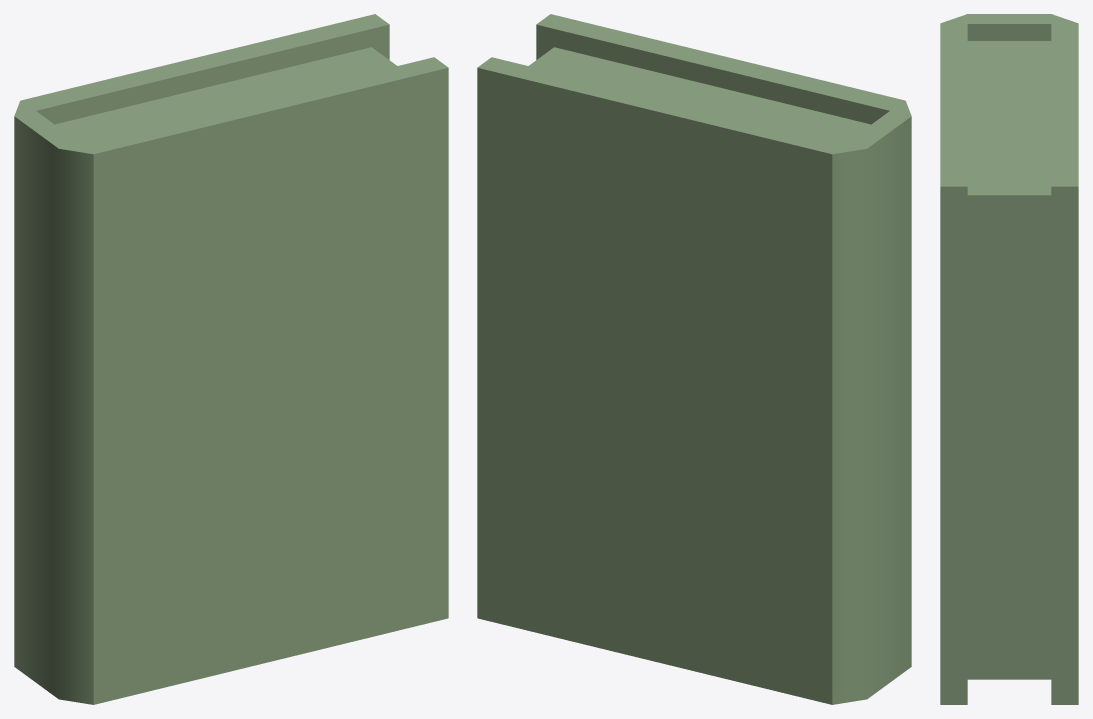
Rendered from Book_V10.fbx.
The picture shows the model from 3 angles, left to right: view 1: azimuth 30°, elevation 25°; view 2: azimuth 150°, elevation 25°; view 3: azimuth 270°, elevation 25°; orthographic projection. The views are drawn at different scales.
Parts seen in each view (by area): view 1: Book_V10; view 2: Book_V10; view 3: Book_V10.
Part boxes in pixels (x1=…): Book_V10: x1=14, y1=14, x2=448, y2=704; Book_V10: x1=477, y1=14, x2=911, y2=704; Book_V10: x1=940, y1=14, x2=1078, y2=704.
Size of the model in its own units: 21.97 by 30.79 by 7.43.
